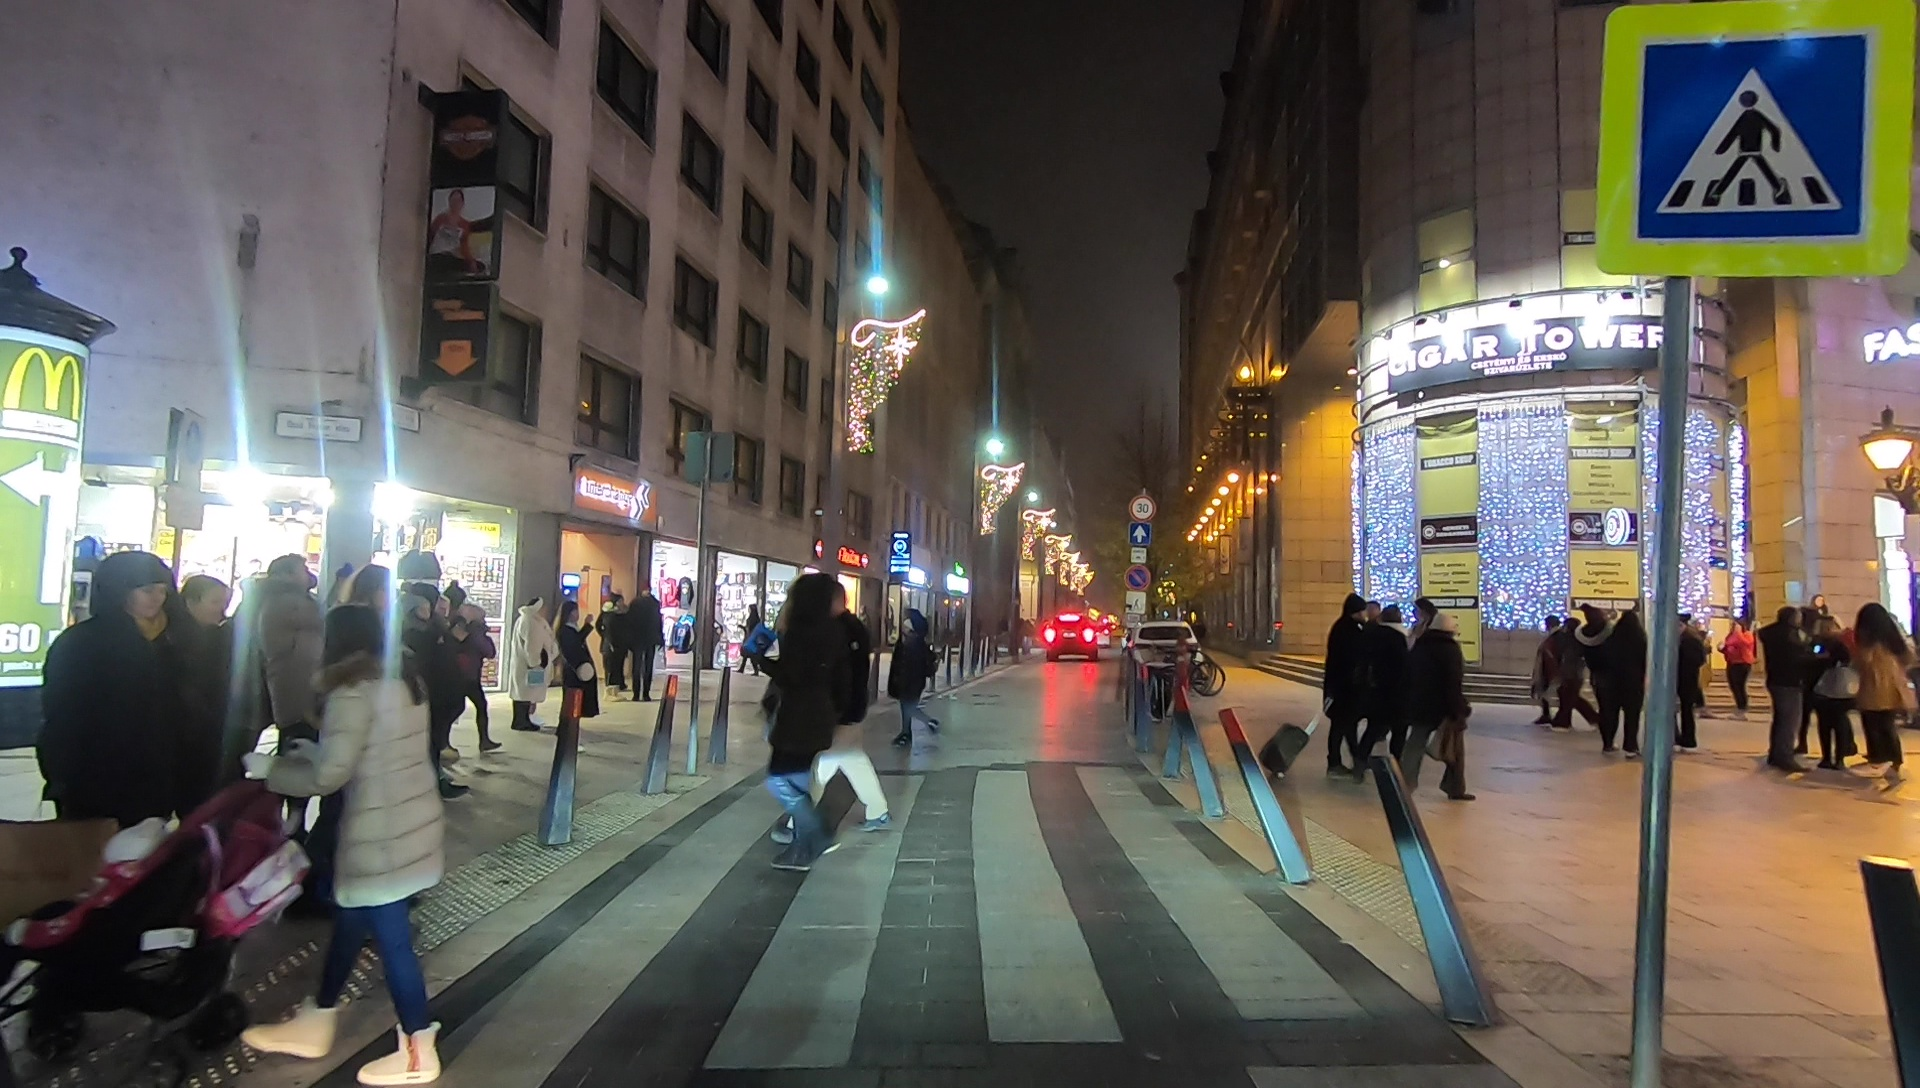person: (262, 617, 443, 1074), (51, 556, 186, 917), (180, 571, 243, 924), (768, 570, 841, 870), (251, 554, 323, 860), (808, 579, 891, 838), (1414, 618, 1472, 800), (1852, 607, 1906, 791), (1326, 598, 1372, 774), (1762, 606, 1808, 774), (447, 602, 493, 761), (892, 607, 942, 749), (1598, 608, 1639, 762), (558, 600, 597, 745), (510, 597, 551, 736), (1373, 603, 1405, 772), (1556, 616, 1595, 736), (1580, 606, 1615, 738), (1676, 612, 1705, 754), (629, 579, 661, 702), (1808, 594, 1840, 704), (1535, 614, 1562, 730), (599, 593, 628, 703), (1724, 620, 1752, 717), (738, 602, 764, 679)
